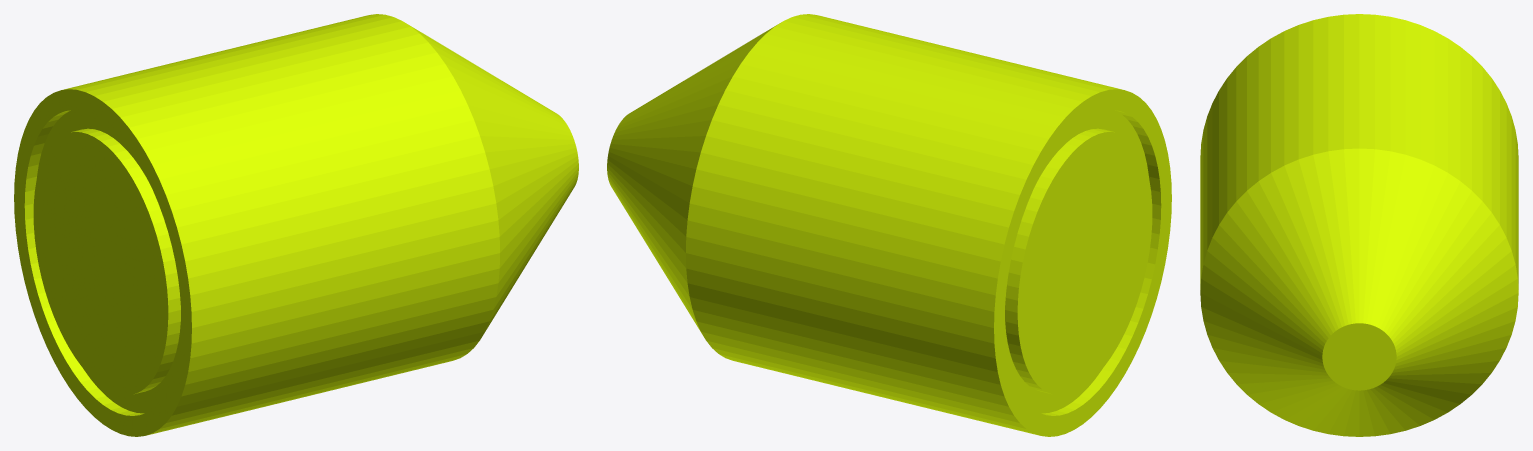
Rendered from Bullet.fbx.
3 views of the same model, side by side, from view 1: azimuth 30°, elevation 25°; view 2: azimuth 150°, elevation 25°; view 3: azimuth 270°, elevation 25° (orthographic). The views are drawn at different scales.
Parts seen in each view (by area): view 1: Cylinder; view 2: Cylinder; view 3: Cylinder.
Boxes of the visible parts, x1,y1,x2,y2 form: Cylinder: (14, 14, 578, 436); Cylinder: (607, 14, 1171, 436); Cylinder: (1200, 14, 1518, 436).
Bounding box in the file's own units: 297 × 200 × 200.
Materials: 1 (1 with a texture image).
